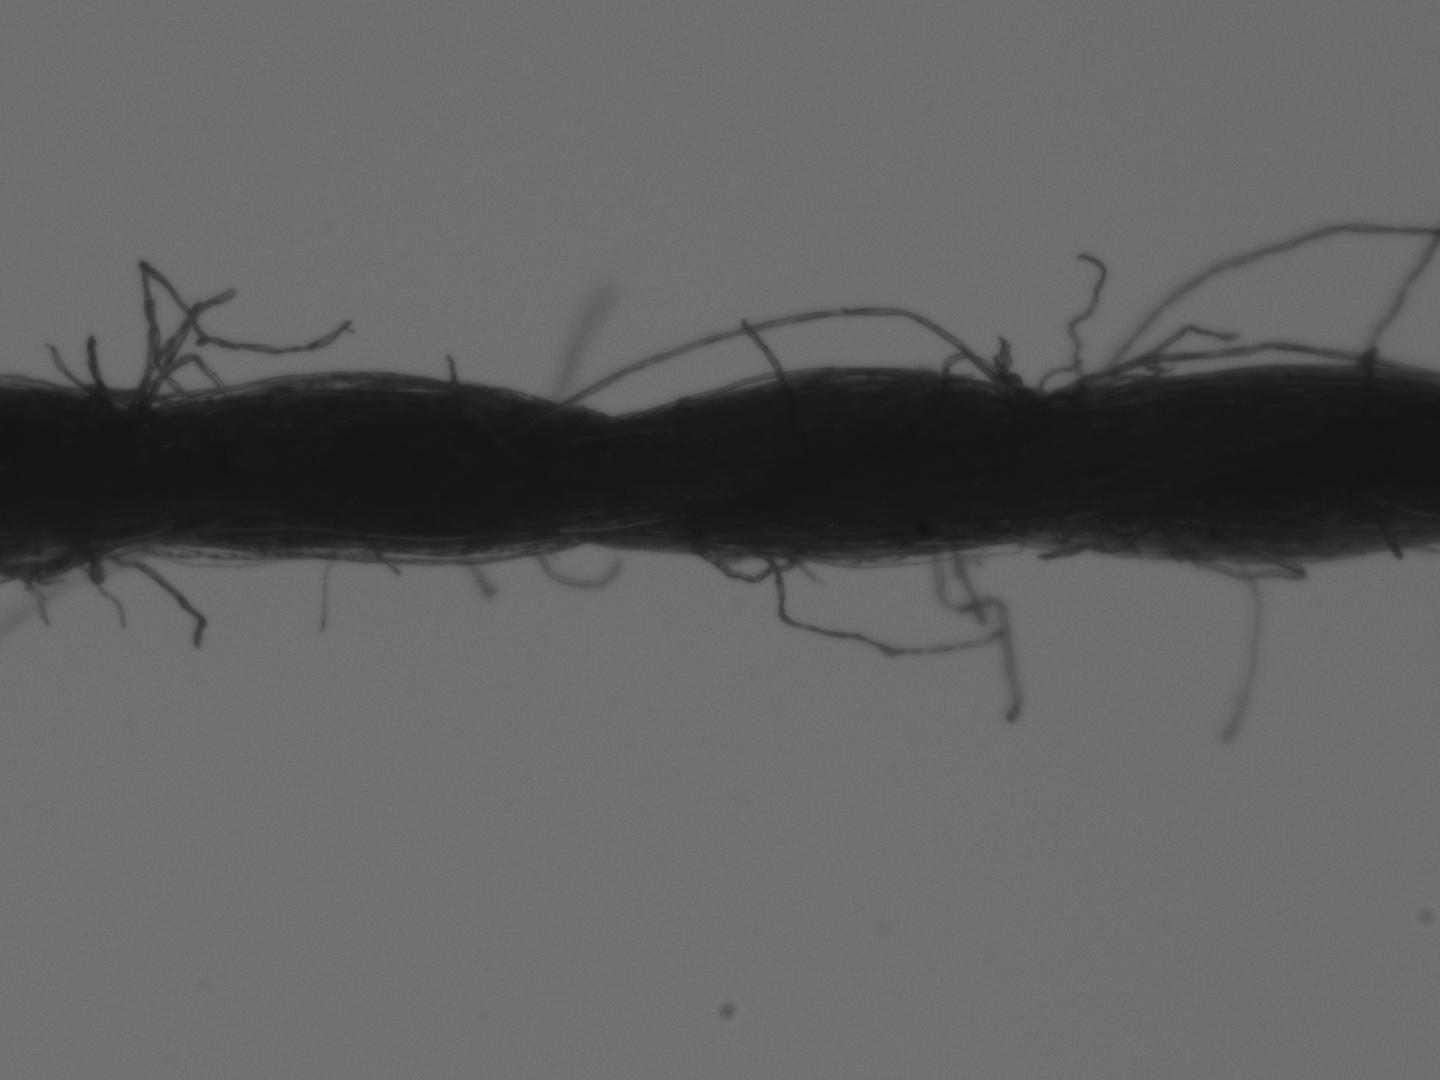loop_fiber: (557, 305, 1011, 412), (1040, 332, 1431, 405), (652, 531, 811, 589), (802, 535, 1019, 572), (937, 323, 1031, 397), (133, 351, 225, 421), (1178, 552, 1308, 582)
protruding_fiber: (104, 540, 211, 650), (1062, 245, 1113, 396), (531, 543, 627, 593)
